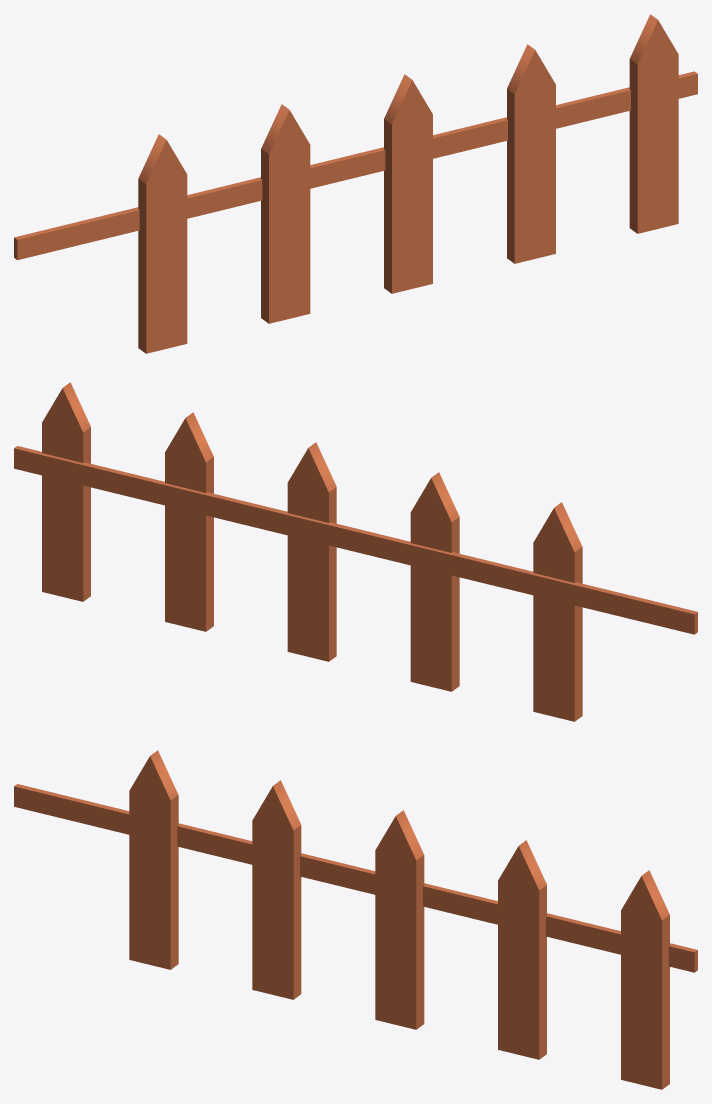
Rendered from Wooden_fence_3.FBX.
3 views of the same model, one above another, from view 1: azimuth 30°, elevation 25°; view 2: azimuth 150°, elevation 25°; view 3: azimuth 330°, elevation 25° (orthographic).
Parts seen in each view (by area): view 1: Wooden fence 03; view 2: Wooden fence 03; view 3: Wooden fence 03.
Part boxes in pixels (x1,y1,x2,y2): Wooden fence 03: [14, 14, 697, 353]; Wooden fence 03: [14, 382, 697, 721]; Wooden fence 03: [14, 750, 697, 1089].
Bounding box in the file's own units: 6.14 × 1.8 × 0.1572.
Materials: 1 (1 with a texture image).
